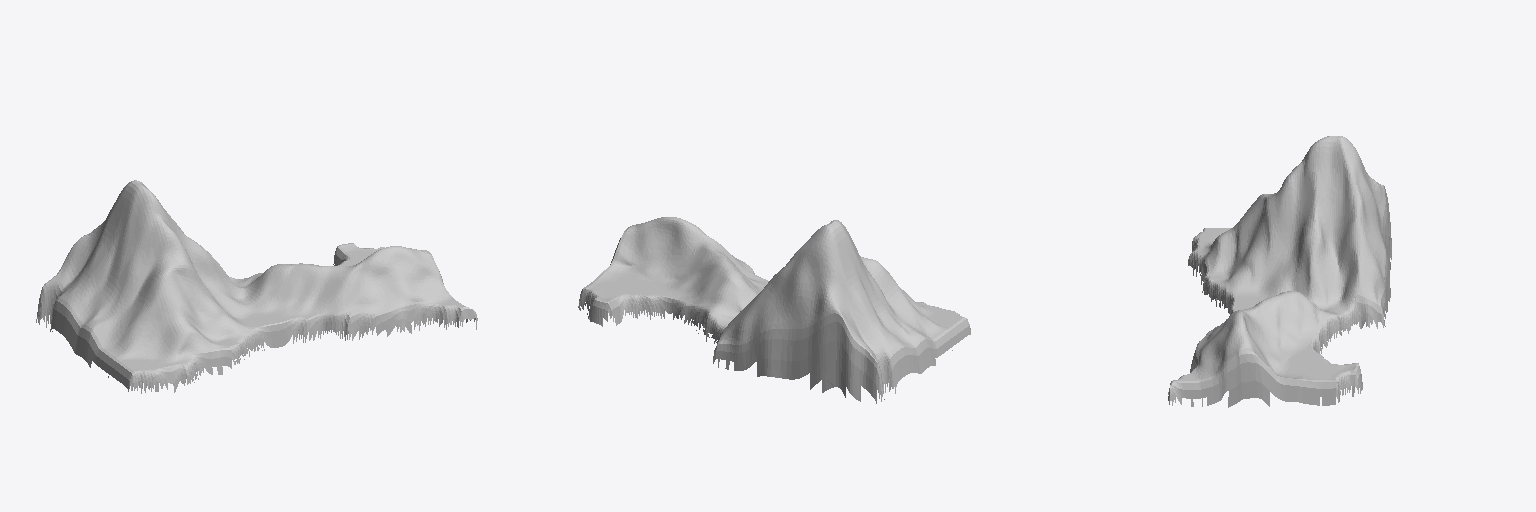
Rendered from map.obj.
3 views of the same model, side by side, from view 1: azimuth 30°, elevation 25°; view 2: azimuth 150°, elevation 25°; view 3: azimuth 270°, elevation 25° (orthographic).
Parts seen in each view (by area): view 1: mapv8; view 2: mapv8; view 3: mapv8.
Boxes of the visible parts, x1,y1,x2,y2 form: mapv8: [36, 180, 477, 393]; mapv8: [578, 217, 970, 403]; mapv8: [1168, 136, 1391, 407].
Bounding box in the file's own units: 2134 × 919 × 1245.